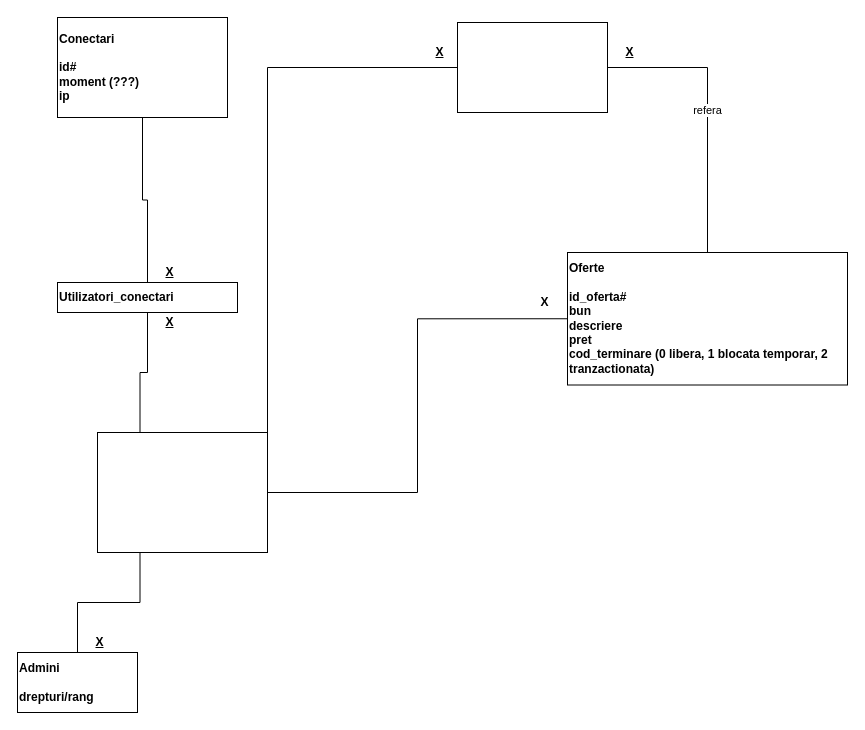
Image size: 865x730. Some labels were removed from this diagram. The shapes that lost their labels are listed below. From the top down, each one's box as (x1, y1, x2, y2) in pixels, then its label:
(456, 22, 608, 112): Tranzactii (efectuate) id_oferta# data
(96, 432, 268, 552): Utilizatori id# nume email parola data_inregistrare
